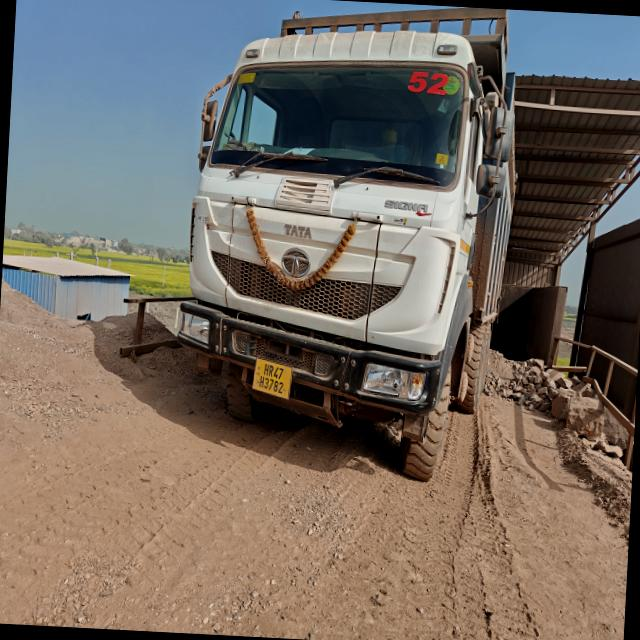license_plate: (253, 359, 292, 398)
